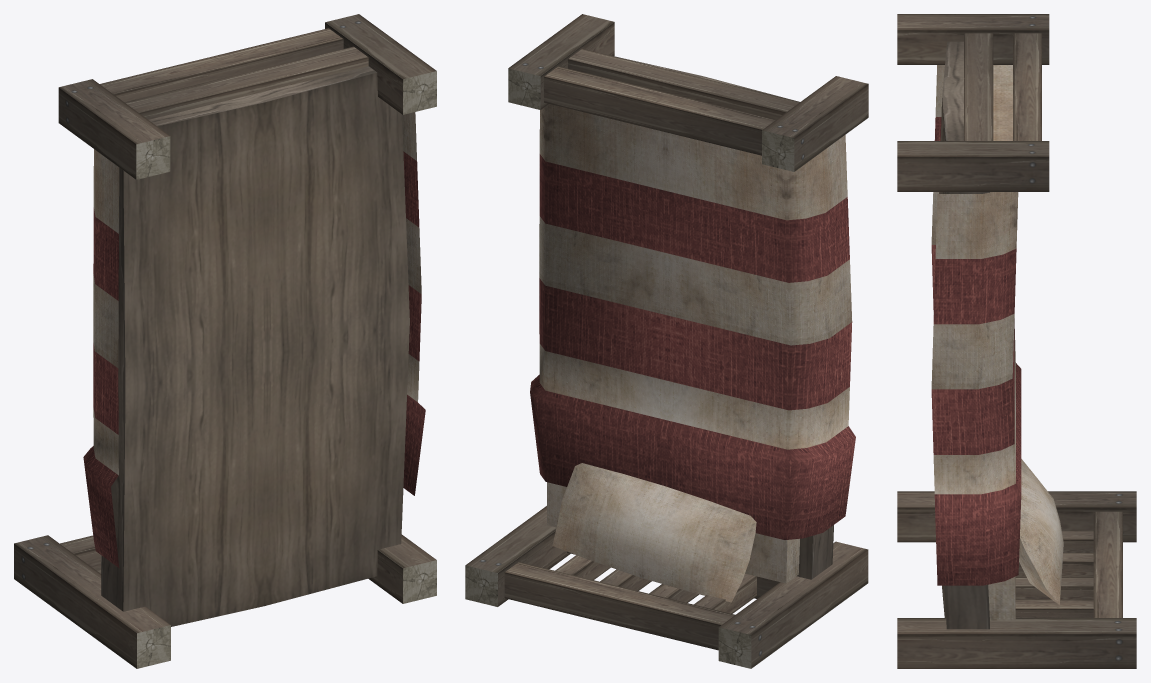
The model's file is Bed_01_C.fbx.
The picture shows the model from 3 angles, left to right: view 1: azimuth 30°, elevation 25°; view 2: azimuth 150°, elevation 25°; view 3: azimuth 270°, elevation 25°; orthographic projection. The views are drawn at different scales.
Parts seen in each view (by area): view 1: Bed_01_C; view 2: Bed_01_C; view 3: Bed_01_C.
Part boxes in pixels (x1=…): Bed_01_C: x1=14, y1=14, x2=436, y2=668; Bed_01_C: x1=465, y1=14, x2=868, y2=668; Bed_01_C: x1=897, y1=14, x2=1136, y2=668.
Size of the model in its own units: 2.29 by 3.65 by 1.55.
